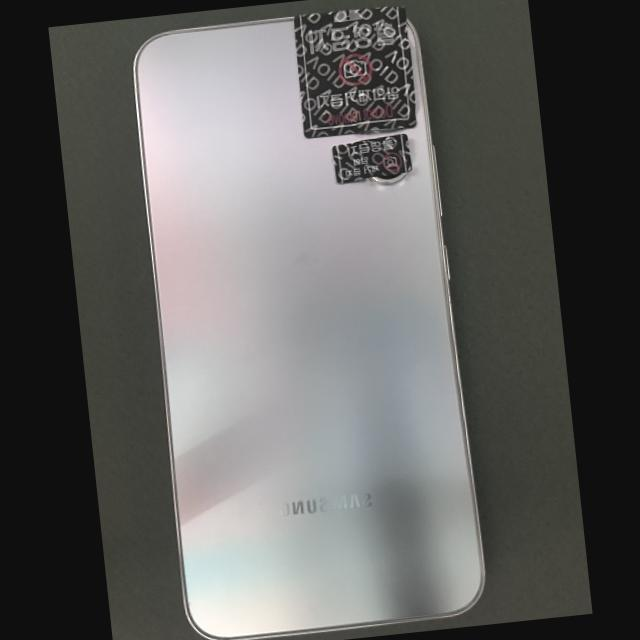phone: (133, 7, 482, 639)
sticker: (294, 7, 414, 138), (332, 134, 410, 184)
